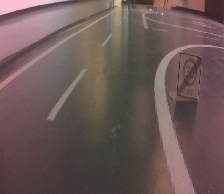zone 30 stop sign: (175, 52, 203, 100)
